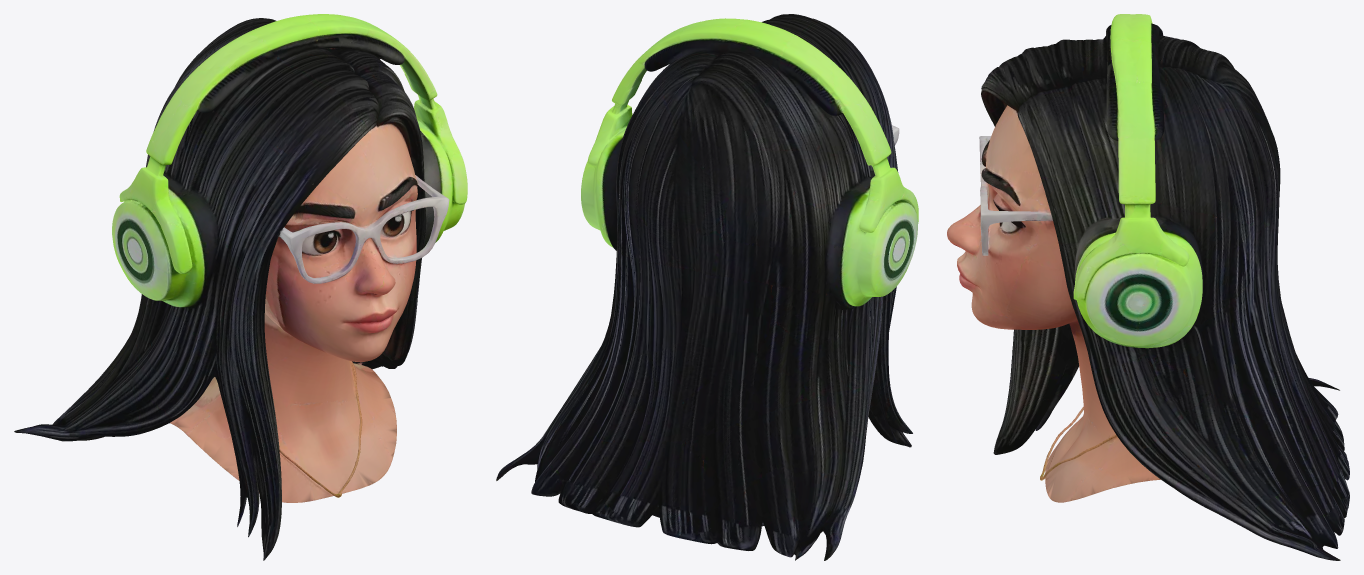
Rendered from avatar.glb.
3 views of the same model, side by side, from view 1: azimuth 30°, elevation 25°; view 2: azimuth 150°, elevation 25°; view 3: azimuth 270°, elevation 25° (orthographic). The views are drawn at different scales.
Visible parts, largest first — view 1: mesh_node; view 2: mesh_node; view 3: mesh_node.
Boxes of the visible parts, x1,y1,x2,y2 form: mesh_node: (14,14,467,560); mesh_node: (496,14,918,560); mesh_node: (947,14,1349,560).
Size of the model in its own units: 1.5 by 1.9 by 1.47.
1 material, 1 textured.
